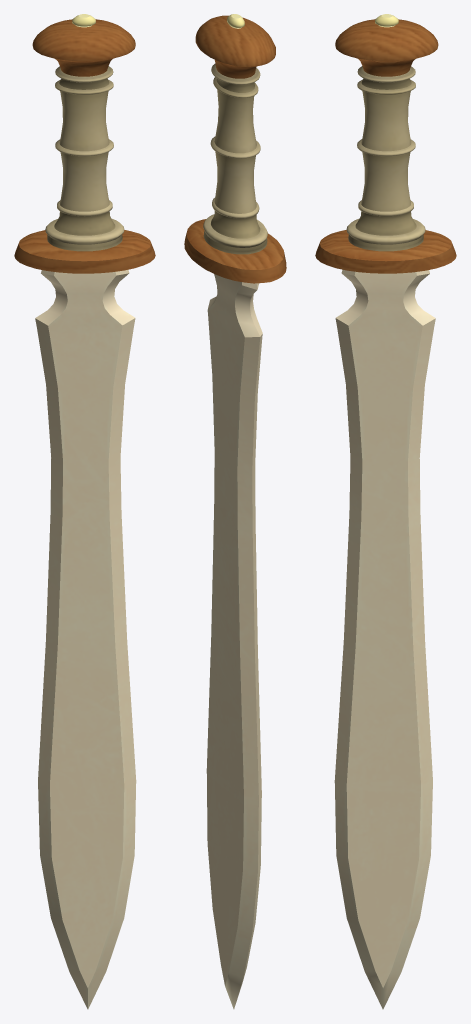
The model's file is roman_gladius_-_pristine_model.glb.
3 views of the same model, side by side, from view 1: azimuth 90°, elevation 25°; view 2: azimuth 210°, elevation 25°; view 3: azimuth 270°, elevation 25° (orthographic).
Visible parts, largest first — view 1: SM_Gladius_01a_Material #6113_0; view 2: SM_Gladius_01a_Material #6113_0; view 3: SM_Gladius_01a_Material #6113_0.
Part boxes in pixels (bbox=[...]): SM_Gladius_01a_Material #6113_0: bbox=[14, 14, 155, 1009]; SM_Gladius_01a_Material #6113_0: bbox=[184, 14, 286, 1009]; SM_Gladius_01a_Material #6113_0: bbox=[315, 14, 456, 1009].
Size of the model in its own units: 0.0669 by 0.8631 by 0.1112.
1 material, 1 textured.
